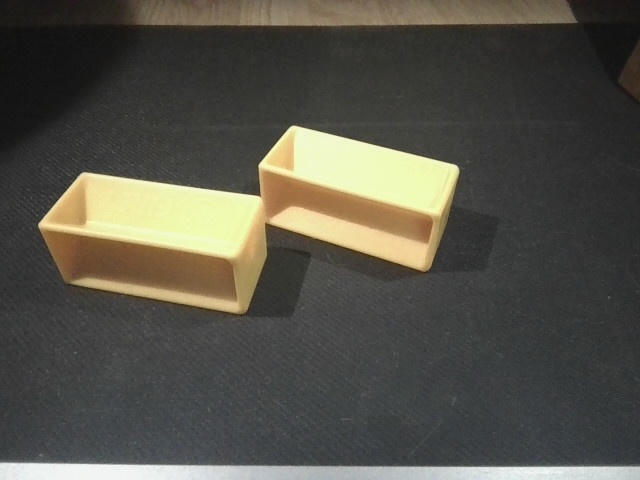YellowSample: (36, 170, 268, 316), (258, 121, 465, 282)
